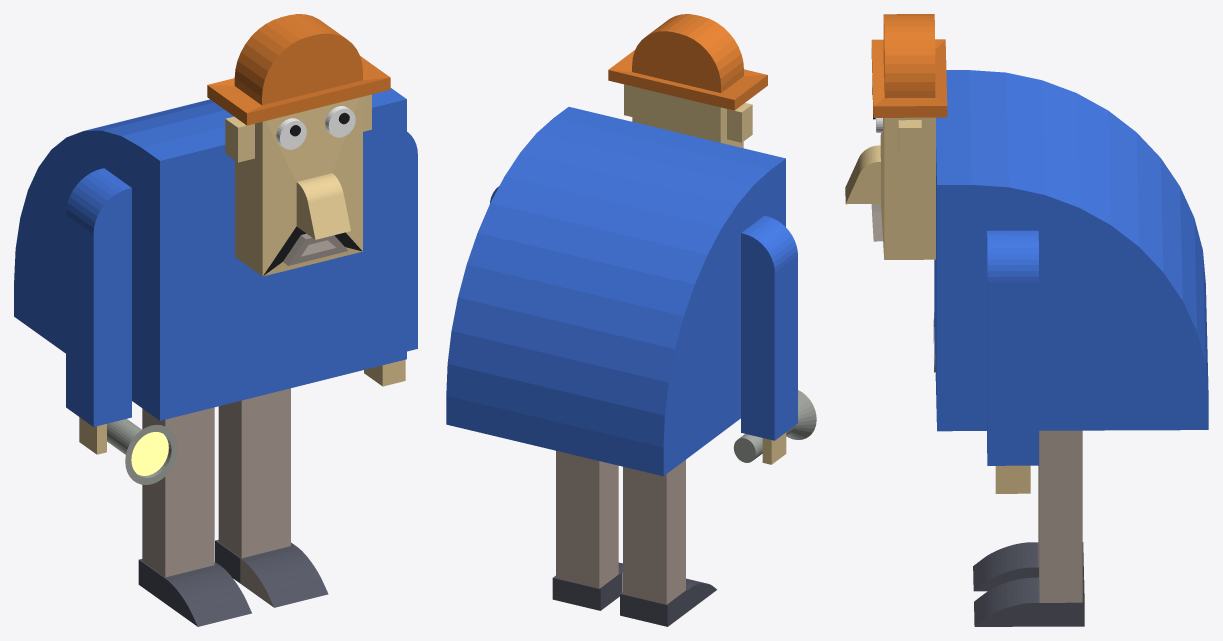
File: robot_model_web2.glb
3 renders of one model, left to right at view 1: azimuth 30°, elevation 25°; view 2: azimuth 150°, elevation 25°; view 3: azimuth 270°, elevation 25°, orthographic. The views are drawn at different scales.
Visible parts, largest first — view 1: Cube, Cube.001, Cube.004, Cube.003, Cube.005, Cube.011, Cube.002, Cylinder.002, Cylinder.003; view 2: Cube, Cube.001, Cube.004, Cube.005, Cube.003, Cube.011; view 3: Cube, Cube.001, Cube.002, Cube.003, Cube.005.
Part boxes in pixels (bbox=[...]): Cube: bbox=[14, 88, 406, 420]; Cube.001: bbox=[207, 14, 390, 276]; Cube.004: bbox=[66, 168, 131, 454]; Cube.003: bbox=[215, 388, 328, 607]; Cube.005: bbox=[138, 407, 251, 626]; Cube.011: bbox=[107, 419, 177, 484]; Cube.002: bbox=[364, 132, 417, 386]; Cylinder.002: bbox=[325, 106, 355, 137]; Cylinder.003: bbox=[276, 118, 306, 149]; Cube: bbox=[446, 107, 785, 476]; Cube.001: bbox=[608, 14, 767, 148]; Cube.004: bbox=[741, 215, 797, 464]; Cube.005: bbox=[620, 460, 716, 626]; Cube.003: bbox=[552, 451, 622, 610]; Cube.011: bbox=[733, 390, 816, 462]; Cube: bbox=[934, 70, 1208, 431]; Cube.001: bbox=[845, 14, 947, 259]; Cube.002: bbox=[987, 230, 1038, 493]; Cube.003: bbox=[974, 430, 1084, 626]; Cube.005: bbox=[973, 465, 1083, 591].
Bounding box in the file's own units: 6.91 × 12.32 × 7.03.
